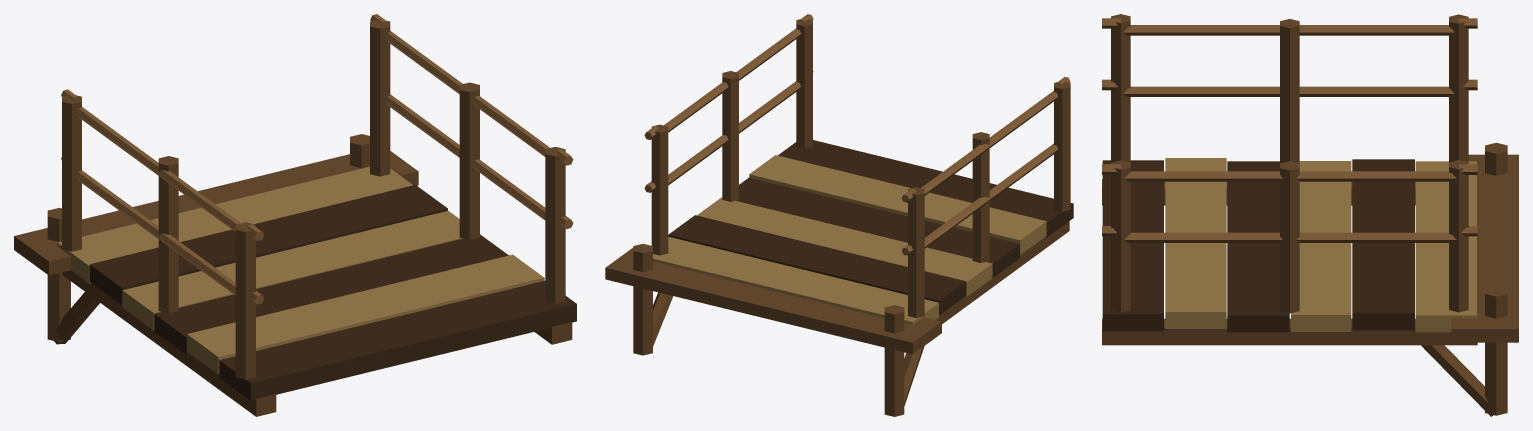
The model's file is bridge_edge.obj.
3 renders of one model, left to right at view 1: azimuth 30°, elevation 25°; view 2: azimuth 150°, elevation 25°; view 3: azimuth 270°, elevation 25°, orthographic. The views are drawn at different scales.
Parts seen in each view (by area): view 1: geometry_5, geometry_4, geometry_1, geometry_3, geometry_2, geometry_0, geometry_30, geometry_10, geometry_19, geometry_20, geometry_21, geometry_8 (+14 smaller); view 2: geometry_30, geometry_1, geometry_0, geometry_4, geometry_2, geometry_3, geometry_5, geometry_19, geometry_10, geometry_8, geometry_21, geometry_20 (+14 smaller); view 3: geometry_1, geometry_4, geometry_3, geometry_2, geometry_30, geometry_5, geometry_0, geometry_7, geometry_20, geometry_21, geometry_9, geometry_19 (+13 smaller).
Part boxes in pixels (x1,y1,x2,y2): geometry_5: (219,280,576,400); geometry_4: (187,254,544,374); geometry_1: (89,185,447,305); geometry_3: (154,234,508,354); geometry_2: (122,210,462,330); geometry_0: (57,166,412,283); geometry_30: (14,151,418,275); geometry_10: (235,222,255,379); geometry_19: (370,20,390,176); geometry_20: (459,82,479,239); geometry_21: (545,147,565,304); geometry_8: (62,95,81,251); geometry_30: (605,247,941,354); geometry_1: (668,215,966,315); geometry_0: (653,236,938,324); geometry_4: (749,155,1046,254); geometry_2: (697,197,992,296); geometry_3: (736,177,1019,277); geometry_5: (778,140,1073,237); geometry_19: (651,124,668,255); geometry_10: (1054,82,1070,211); geometry_8: (908,187,924,317); geometry_21: (796,19,812,148); geometry_20: (722,71,738,201); geometry_1: (1352,159,1414,330); geometry_4: (1165,158,1226,328); geometry_3: (1227,161,1289,332); geometry_2: (1291,161,1351,331); geometry_30: (1451,154,1518,342); geometry_5: (1102,160,1163,331); geometry_0: (1415,161,1476,332); geometry_7: (1102,318,1477,345); geometry_20: (1280,161,1299,313); geometry_21: (1111,160,1130,312); geometry_9: (1280,19,1299,163); geometry_19: (1449,160,1468,312).
Bounding box in the file's own units: 1.1 × 0.7399 × 1.11.
